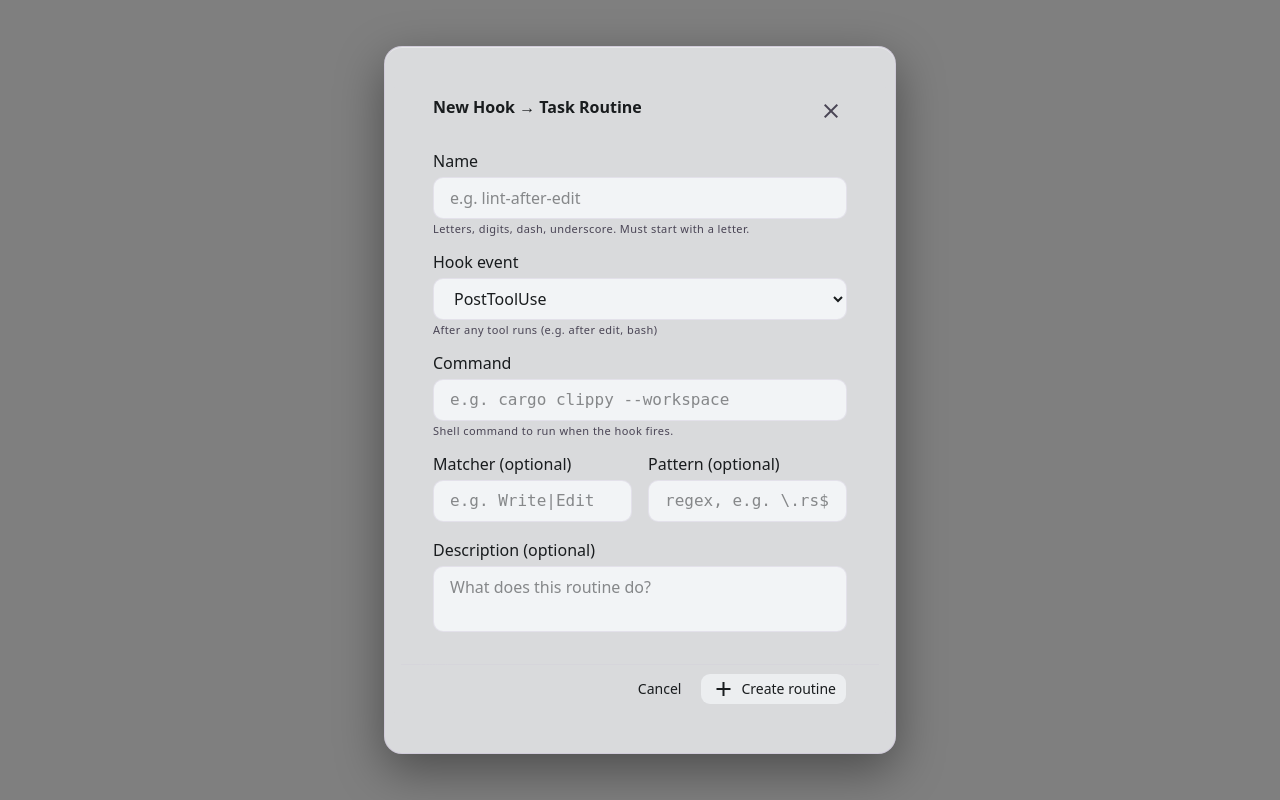
HookRoutineCreateDialog › enables submit when name + command valid
This screenshot has width=1280, height=800.
In the field with placeholder "e.g. lint-after-edit": (640,198) [433,177,847,219], type "lint-after-edit"
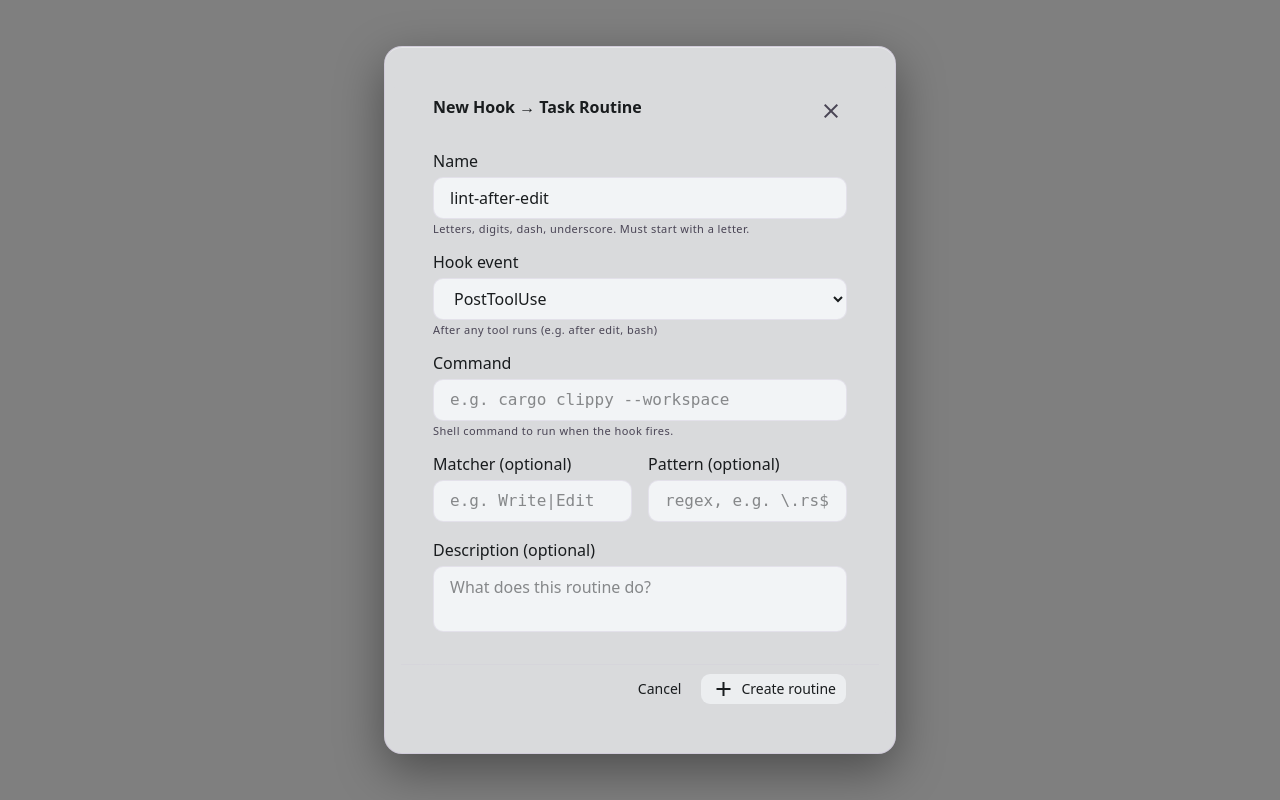
In the field with placeholder "e.g. cargo clippy --workspace": (640,400) [433,379,847,421], type "just lint"
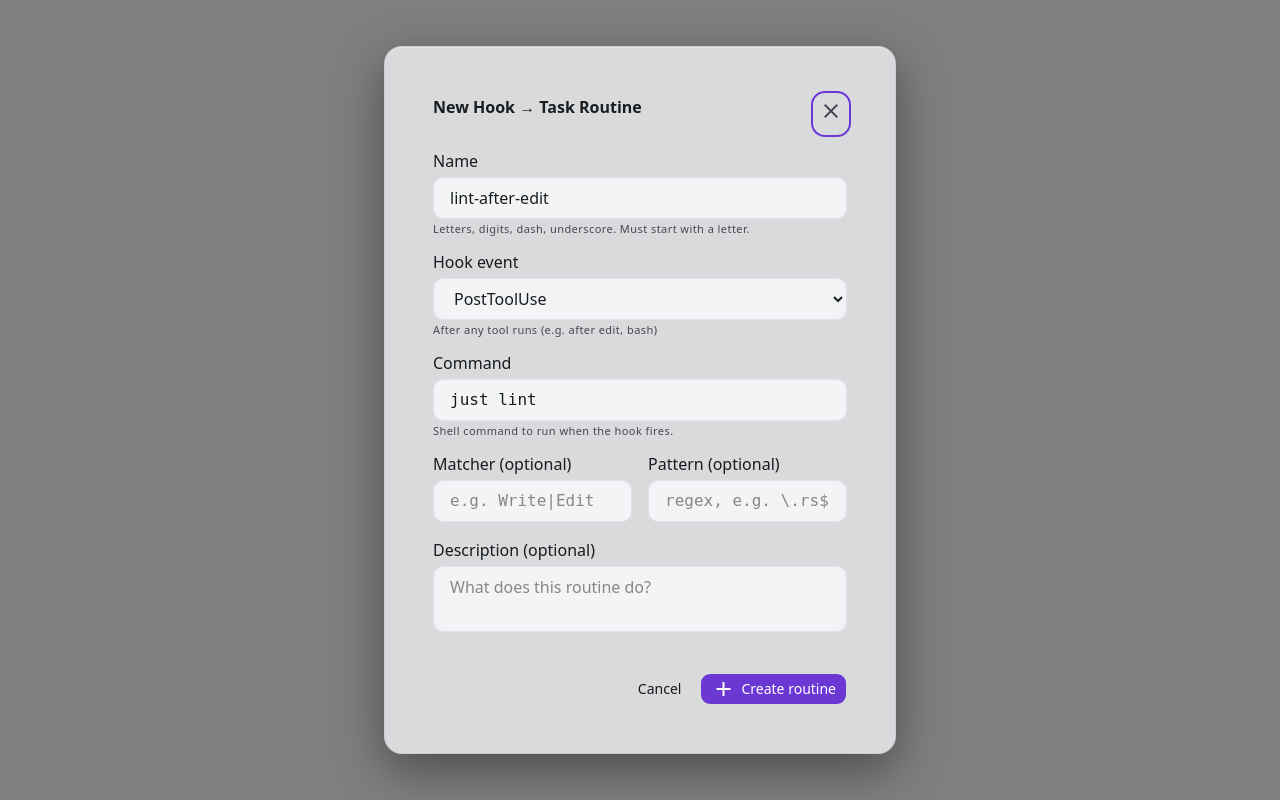
Expected: the button "Create routine" is enabled, [700,673,847,705]
